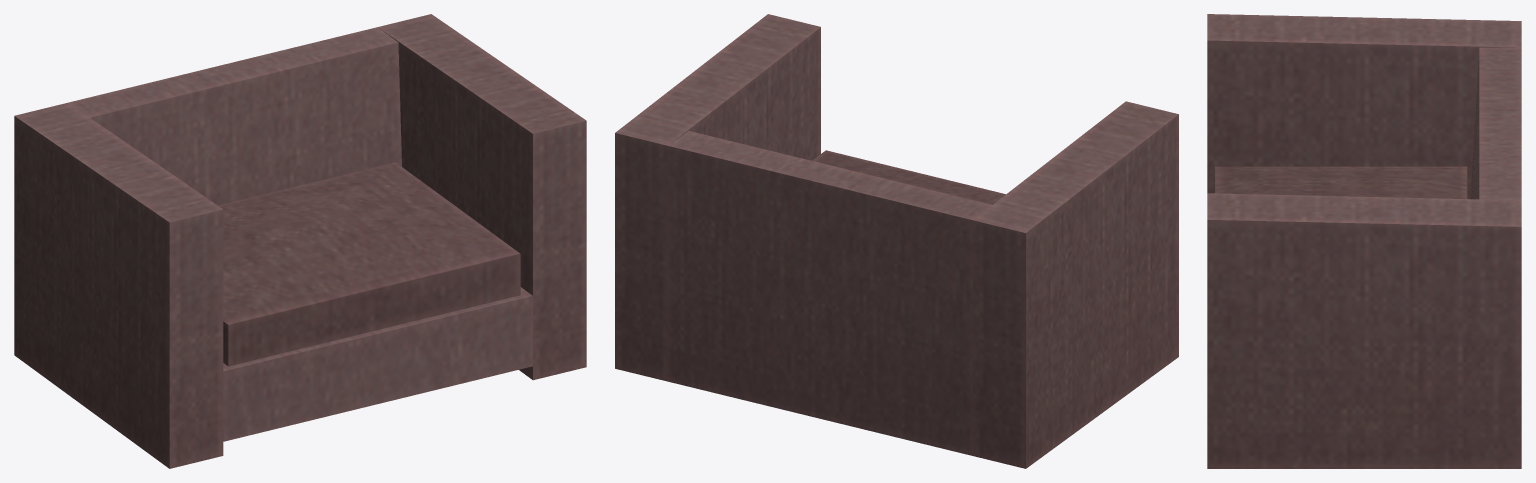
File: Couch_4A.fbx
3 renders of one model, left to right at view 1: azimuth 30°, elevation 25°; view 2: azimuth 150°, elevation 25°; view 3: azimuth 270°, elevation 25°, orthographic. The views are drawn at different scales.
Parts seen in each view (by area): view 1: polySurface725; view 2: polySurface725; view 3: polySurface725.
Part boxes in pixels (x1,y1,x2,y2): polySurface725: (14,14,586,468); polySurface725: (615,14,1178,468); polySurface725: (1207,14,1521,468).
Size of the model in its own units: 1.86 by 1.05 by 1.2.
